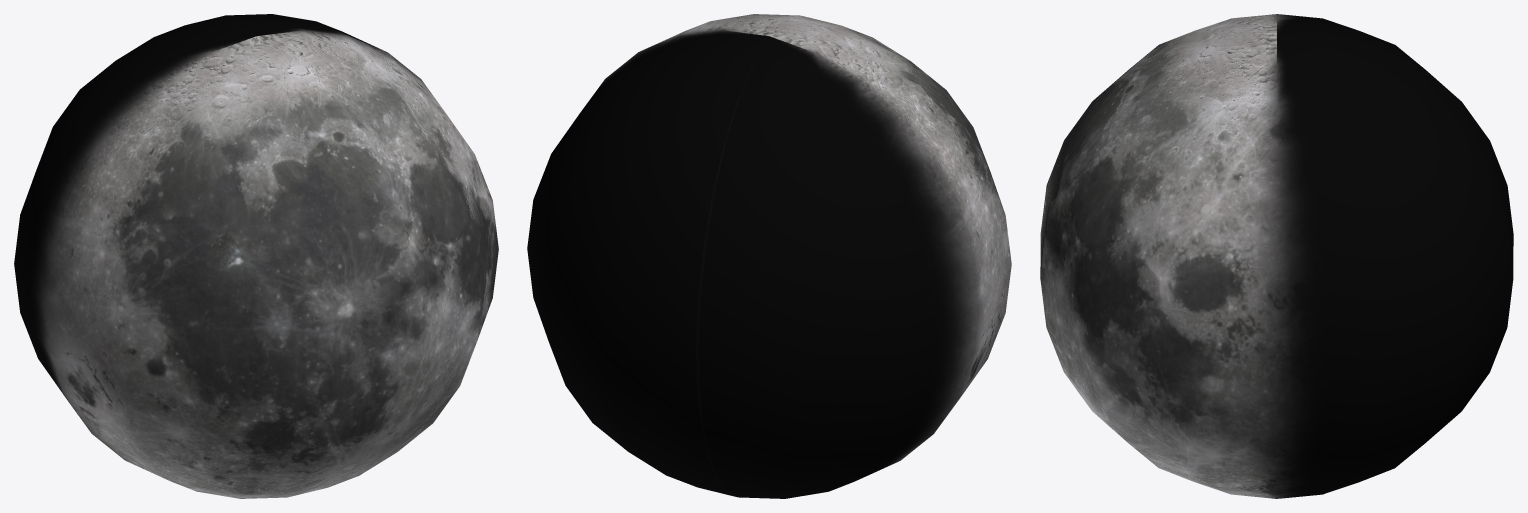
File: Moon.fbx
3 renders of one model, left to right at view 1: azimuth 30°, elevation 25°; view 2: azimuth 150°, elevation 25°; view 3: azimuth 270°, elevation 25°, orthographic.
Visible parts, largest first — view 1: pSphere1; view 2: pSphere1; view 3: pSphere1.
Boxes of the visible parts, x1,y1,x2,y2 form: pSphere1: [14, 14, 498, 498]; pSphere1: [527, 14, 1011, 498]; pSphere1: [1040, 14, 1513, 498].
Size of the model in its own units: 20 by 20 by 19.51.
1 material, 1 textured.
